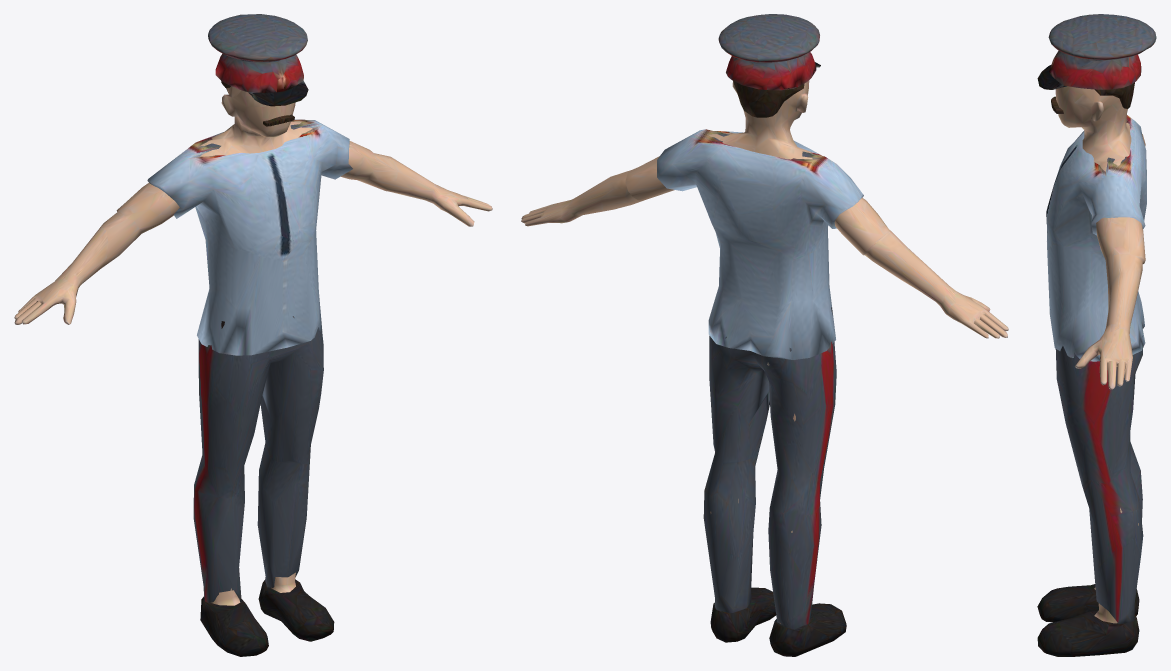
File: npc_x_police2.glb
3 renders of one model, left to right at view 1: azimuth 30°, elevation 25°; view 2: azimuth 150°, elevation 25°; view 3: azimuth 270°, elevation 25°, orthographic.
Parts seen in each view (by area): view 1: Human; view 2: Human; view 3: Human.
Part boxes in pixels (left/top/right/bottom): Human: left=14, top=14, right=492, bottom=656; Human: left=521, top=14, right=1008, bottom=656; Human: left=1037, top=14, right=1156, bottom=656.
Bounding box in the file's own units: 1.54 × 1.85 × 0.3289.
Materials: 1 (1 with a texture image).
